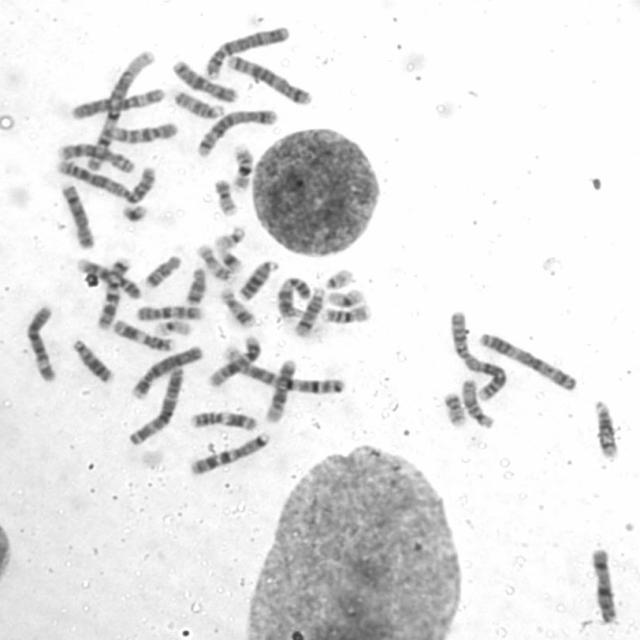A1: (82, 46, 156, 173), (218, 341, 348, 396)
A2: (446, 306, 508, 401), (52, 154, 158, 204)
A3: (474, 328, 580, 392), (124, 362, 185, 446)
B4: (200, 22, 292, 79), (127, 341, 205, 400)
B5: (224, 49, 315, 106), (193, 104, 281, 158)
C10: (107, 118, 181, 144), (133, 301, 207, 322)
C11: (110, 316, 178, 352), (185, 406, 260, 432)
C12: (204, 331, 263, 389), (260, 354, 300, 424)
C6: (66, 82, 167, 120), (21, 300, 59, 384)
C7: (185, 427, 274, 477), (93, 252, 134, 330)
C8: (54, 138, 136, 175), (56, 179, 97, 250)
C9: (72, 254, 142, 301), (274, 271, 314, 321)
D13: (67, 334, 116, 384), (236, 256, 281, 301)
D14: (589, 394, 622, 460), (291, 283, 328, 338)
D15: (458, 375, 496, 429), (168, 85, 226, 119)
E16: (227, 139, 255, 192), (318, 300, 374, 324)
E17: (216, 283, 257, 329), (193, 240, 233, 282)
E18: (140, 250, 183, 290), (181, 263, 209, 307)
F19: (324, 284, 366, 308), (150, 316, 194, 337)
F20: (210, 174, 240, 216), (440, 387, 469, 428)
G21: (215, 244, 245, 273), (117, 200, 150, 223)
G22: (210, 221, 248, 251), (322, 264, 356, 290)
X: (169, 56, 241, 104), (586, 542, 620, 624)
